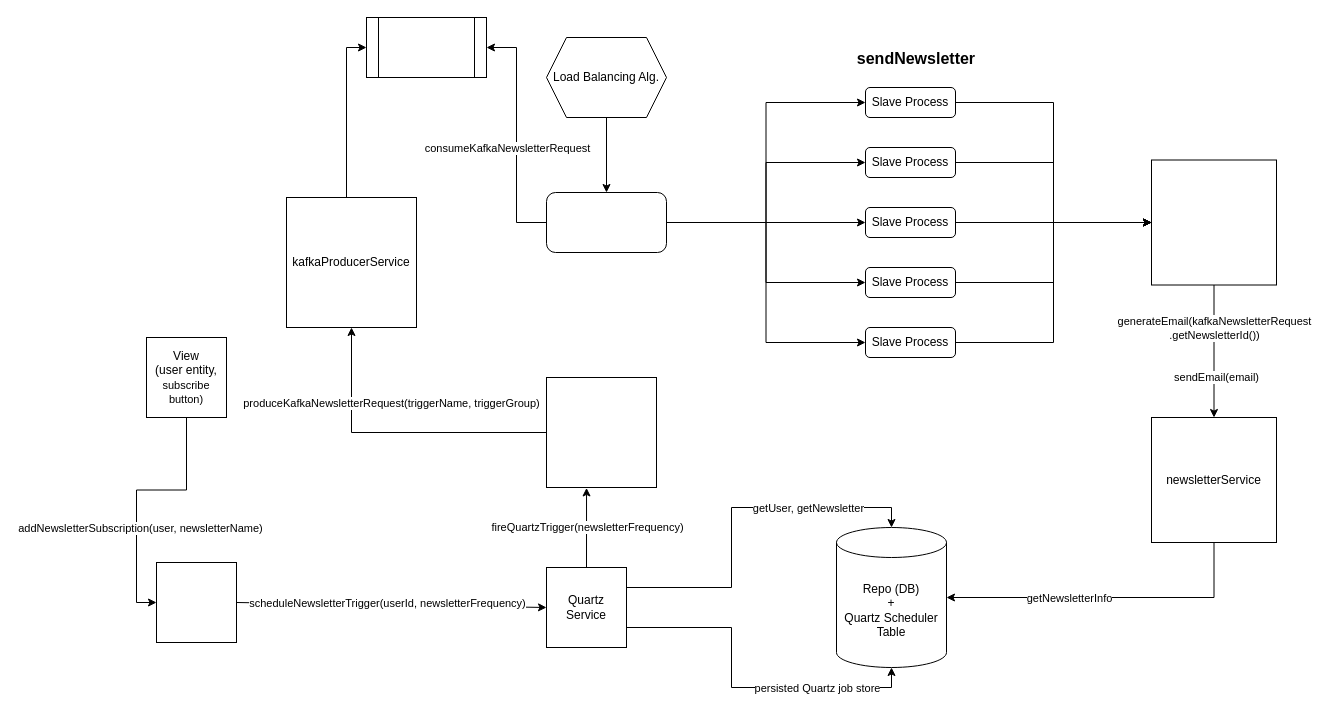
This 1328x713 diagram has some shape labels left out. The centre of each missing label's shape, as x and y in pixels:
Kafka Server: the point at 426,47
Master Process (Kafka consumer): the point at 606,222
newsletterController: the point at 1213,222
Quartz Controller: the point at 196,602
QuartzJob triggerName = userId triggerGroup = newsletterId: the point at 601,432
